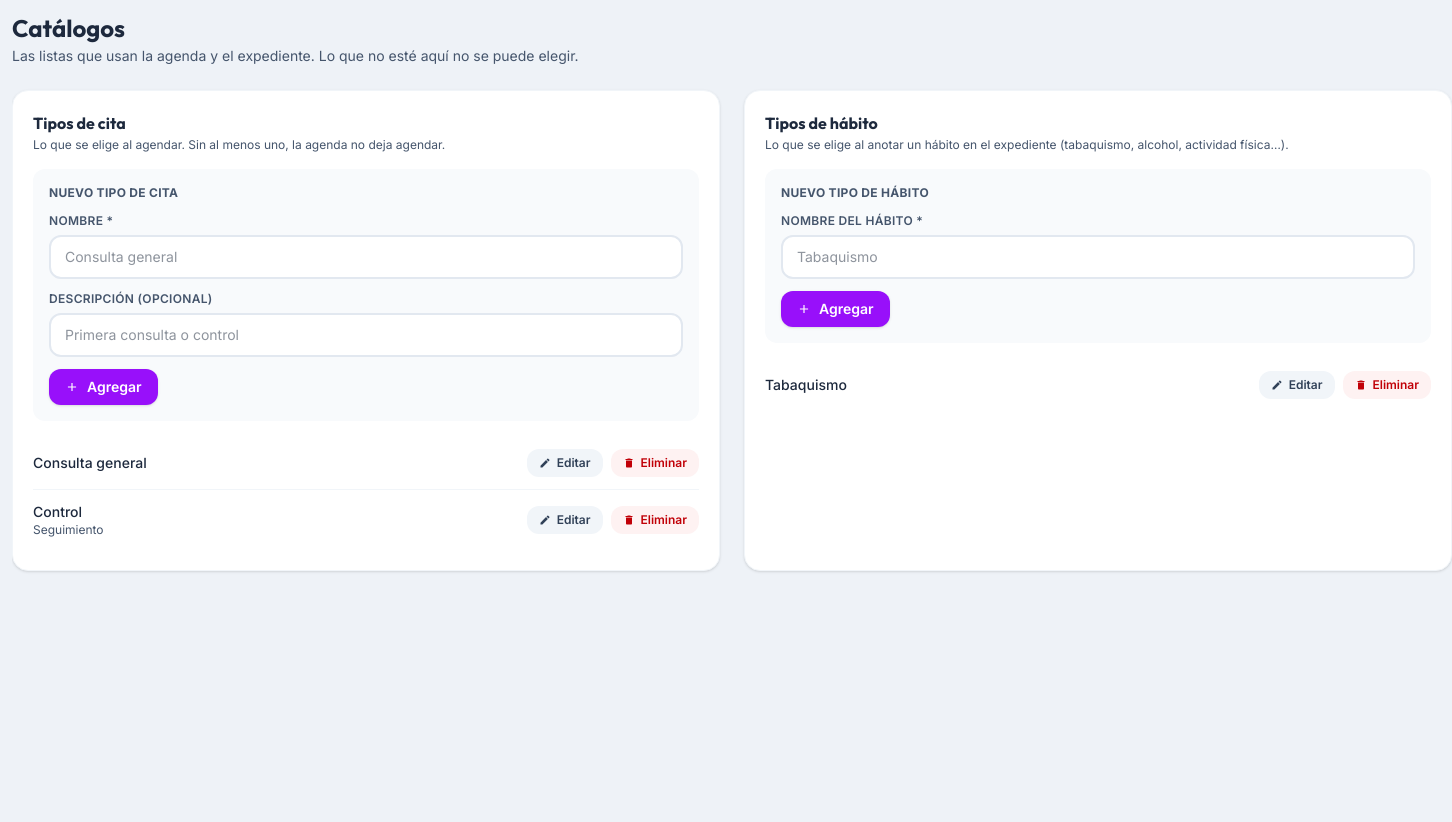
Test: catálogos · editar y eliminar › edita un tipo de cita y refleja lo que devolvió el servidor
The width and height of the screenshot is (1452, 822).
Check: the list named "Tipos de cita" is shown, box [33,437,699,550]
Check: the list named "Tipos de hábito" is shown, box [765,371,1431,399]
Click the button with aria-label "Editar Control" at (565, 520), box [527,506,602,534]
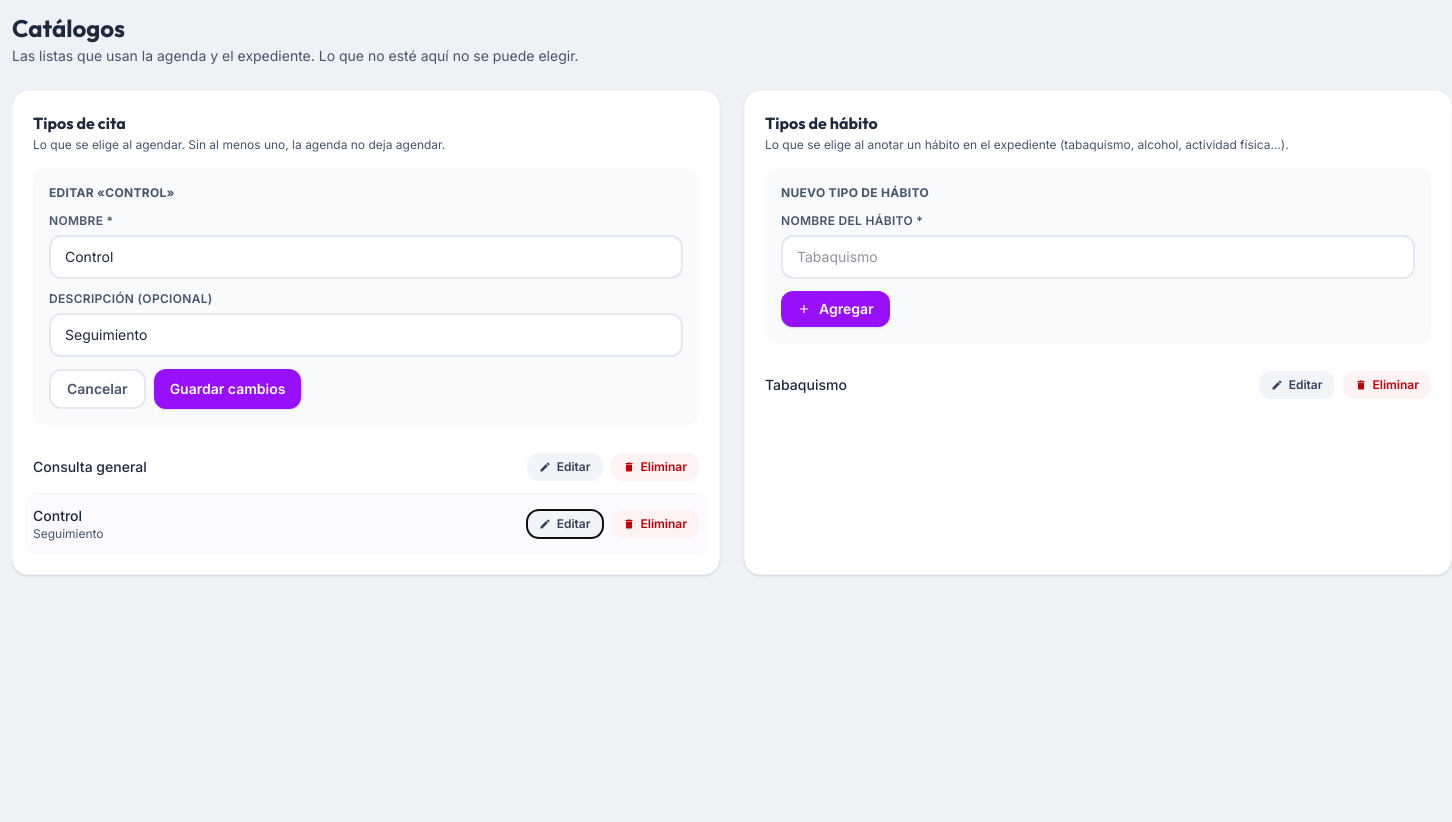
Check: the field labelled "Nombre *" holds "Control"
Replace the text in the field labelled "Nombre *" with "Control crónico" at (366, 257), box [49,235,683,279]
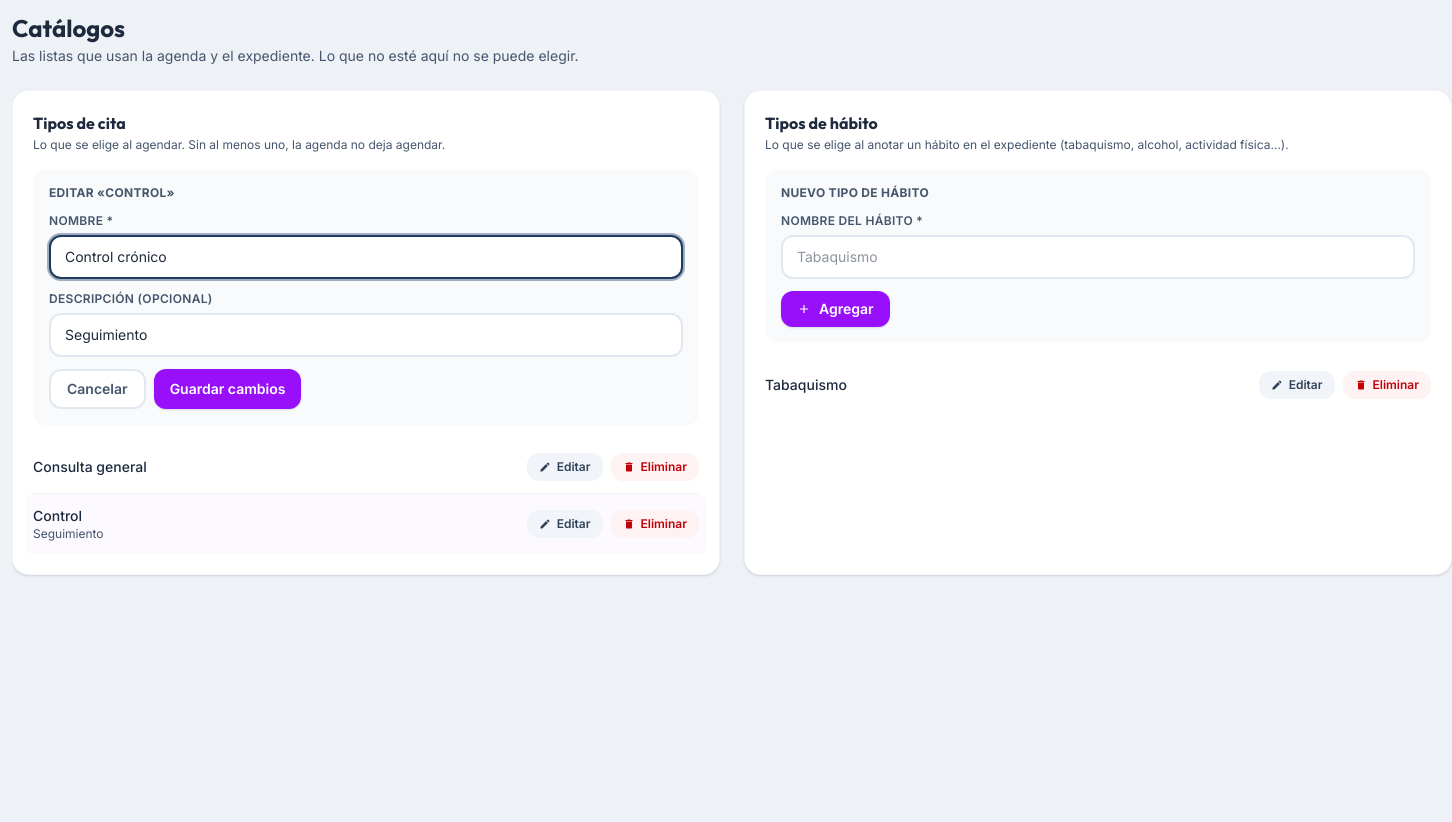
Click the button "Guardar cambios" at (228, 389), box [154,369,301,409]
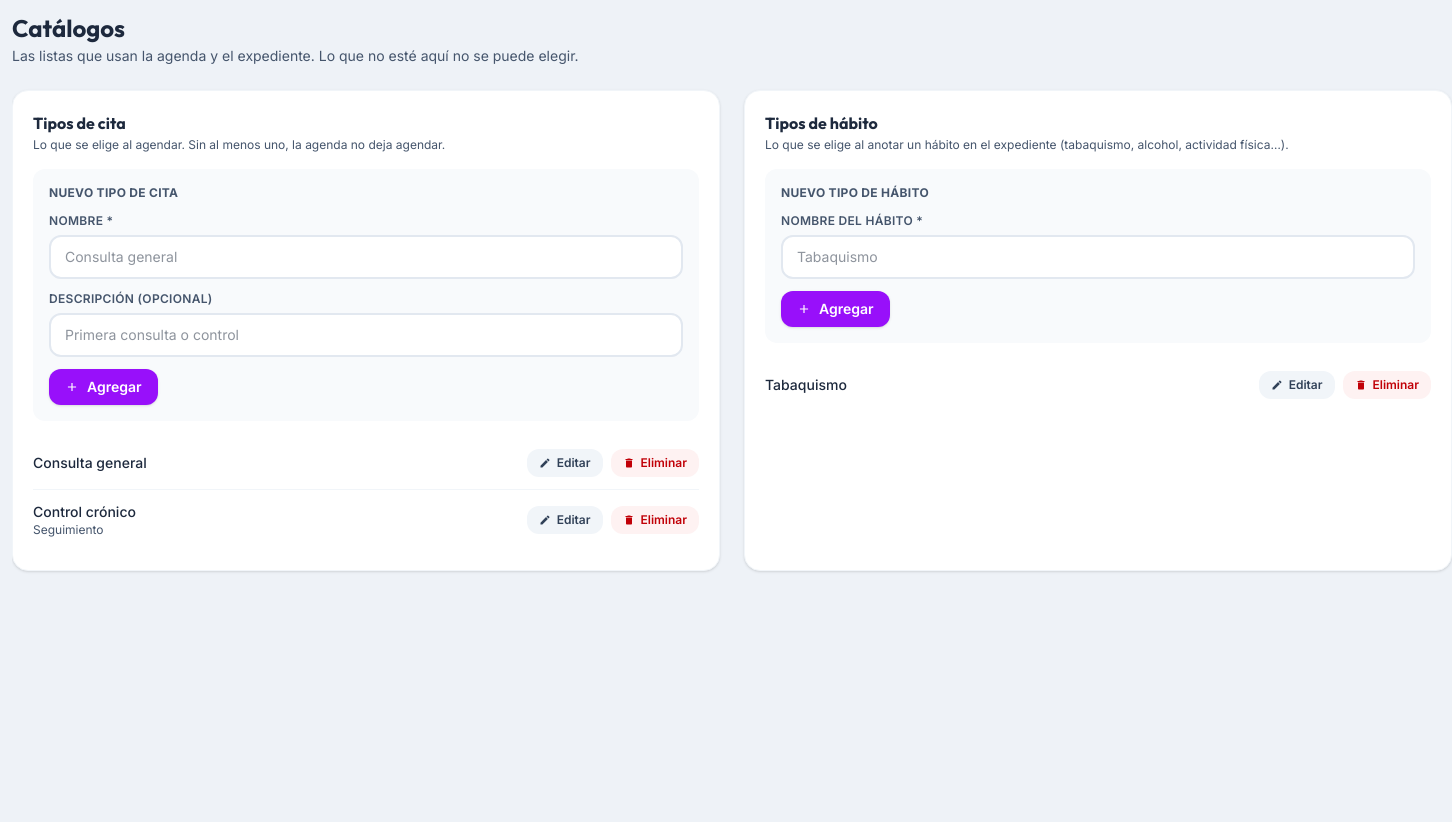
Check: the text "Control crónico" is shown, box [33,502,136,522]
